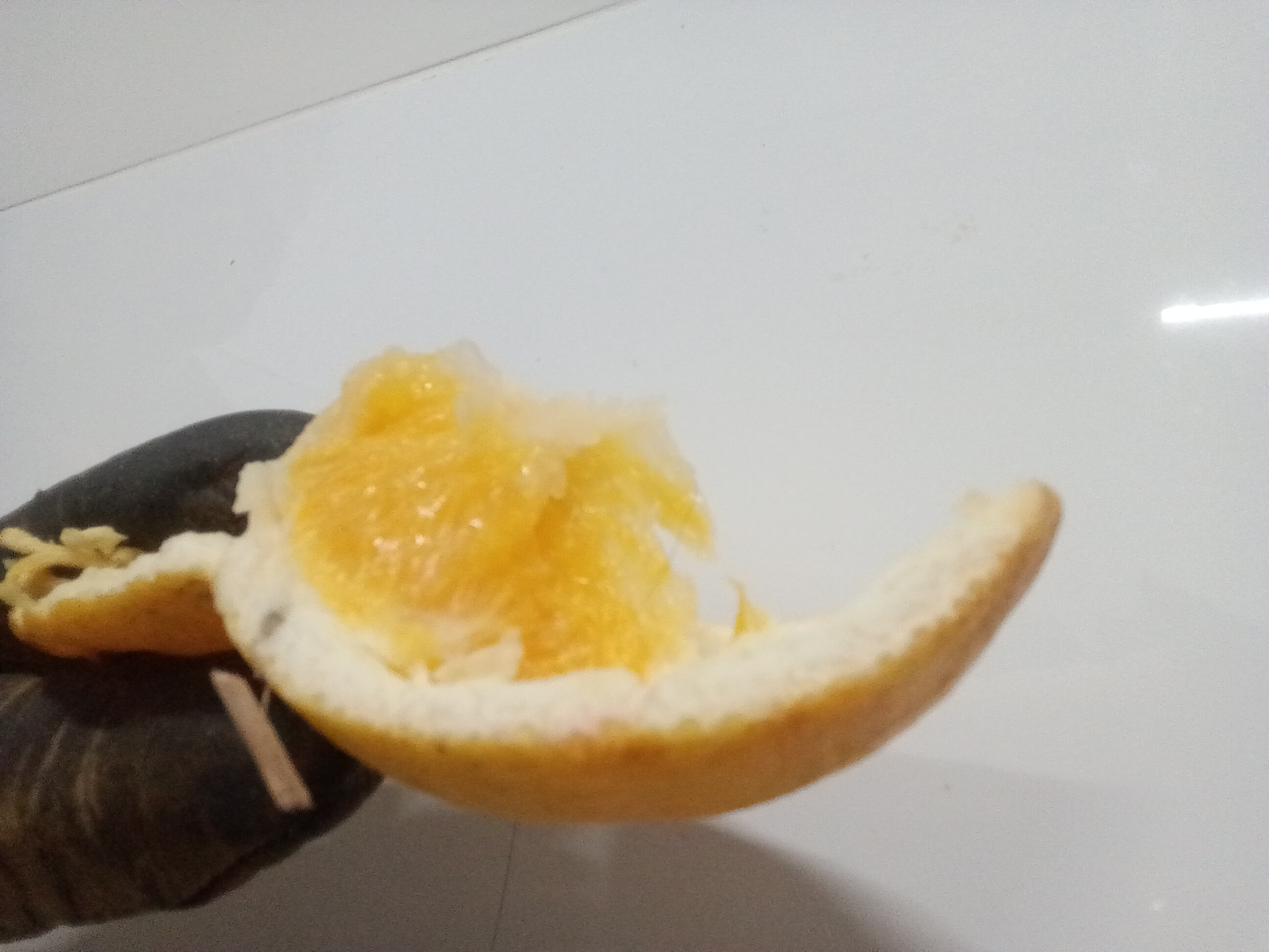Organico: (5, 340, 1058, 822)
